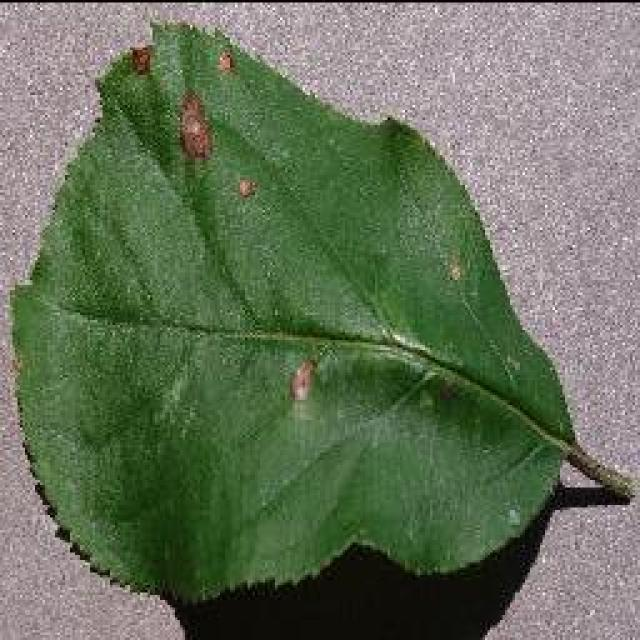apple black rot: (8, 15, 638, 637)
